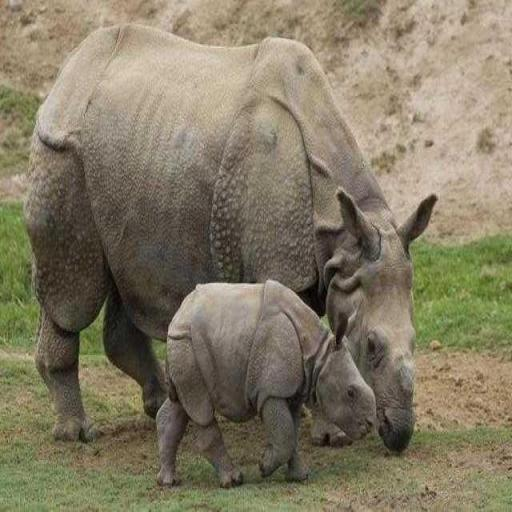Rhino: (22, 20, 438, 456), (154, 276, 377, 490)
